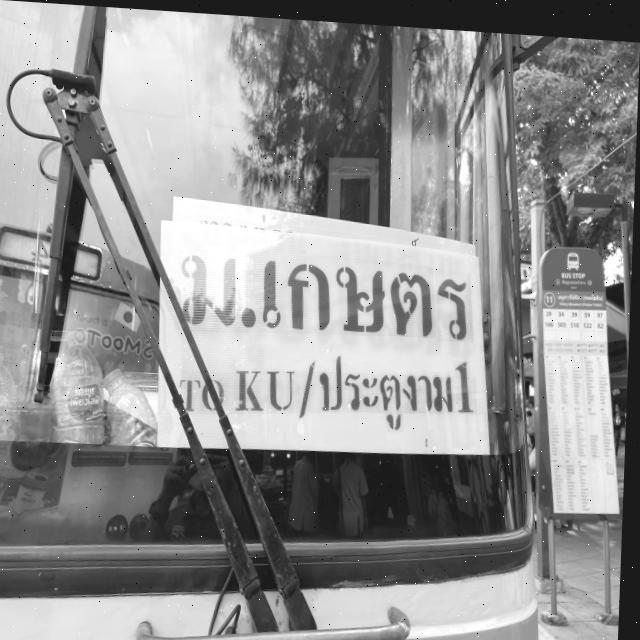BMTA-bus: (0, 0, 564, 640)
Destination-Sign-Extra-Bus-Expressway: (157, 217, 499, 448)
